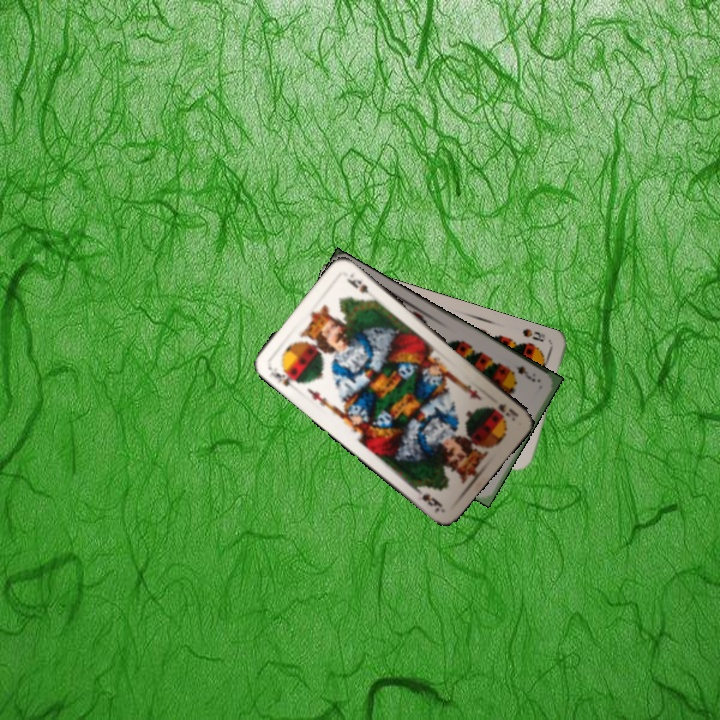S8: (518, 324, 548, 344)
S9: (512, 361, 538, 385)
SK: (269, 365, 302, 389), (494, 399, 521, 424)
